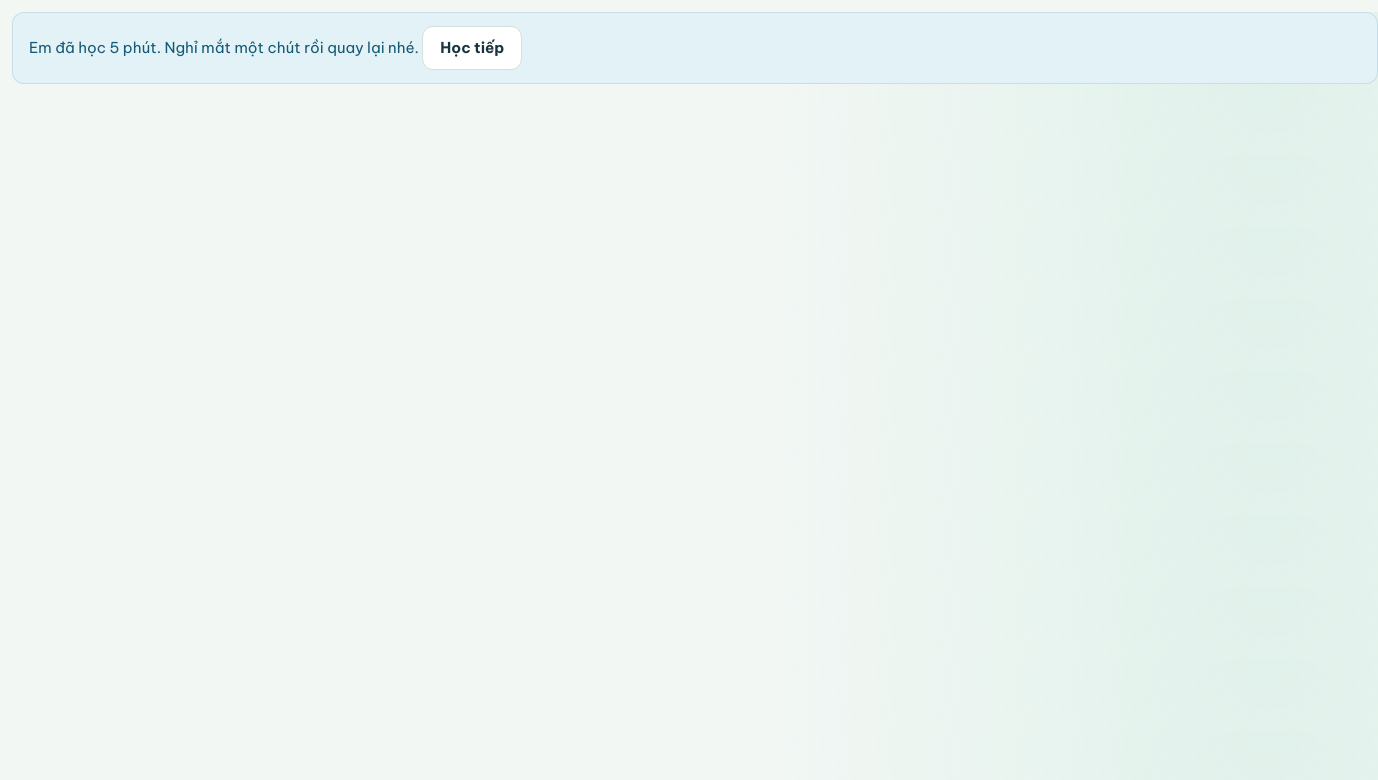
Scenario: FocusTimer › counts down and then gives a short, friendly break reminder
Later steps or results of the test are not shown.
Expected: the text "Em đã học 5 phút. Nghỉ mắt một chút rồi quay lại nhé. Học tiếp" is shown, x1=12 y1=12 x2=1377 y2=84
Click the button "Học tiếp" at (472, 48), box x1=422 y1=26 x2=522 y2=70
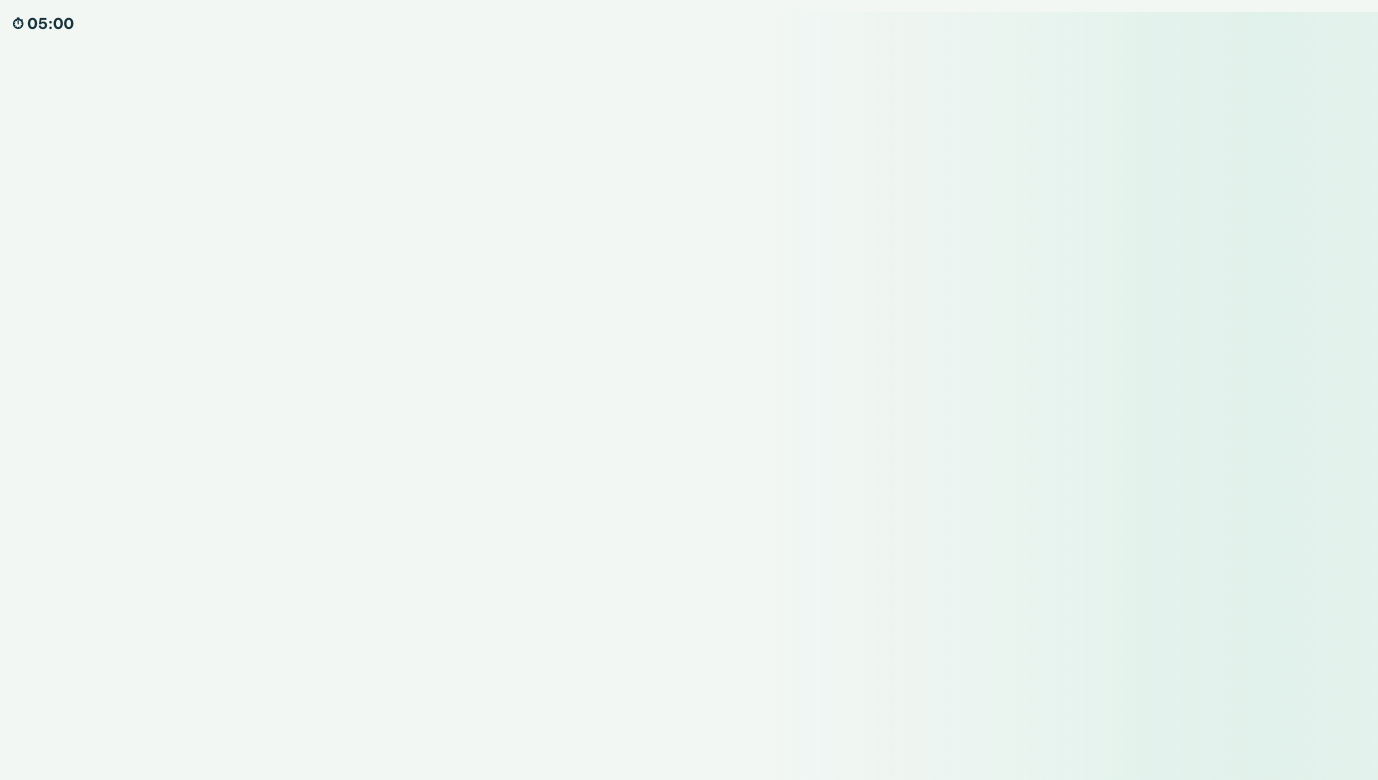
Now the text "⏱ 05:00" is shown, box x1=12 y1=14 x2=74 y2=33
